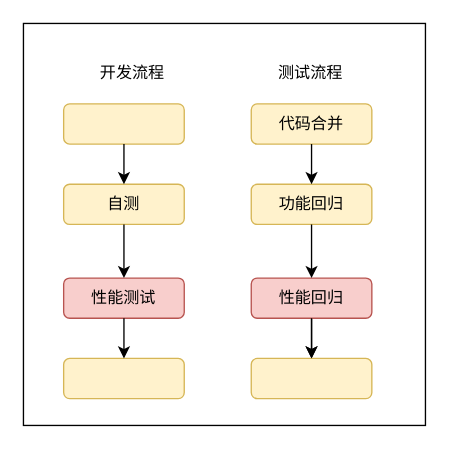
Image size: 449x449. Some labels were removed from this diagram. The centre of each missing label's shape, as x and y in pixels:
"发布" goes at point 311,378.
"提测" goes at point 123,378.
"编码" goes at point 123,123.
